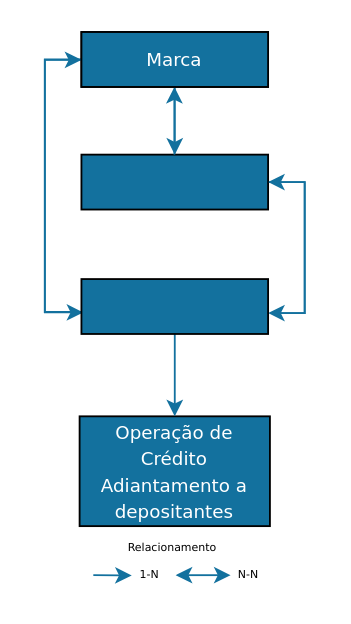
This 351x624 diagram has some shape labels left out. The shapes that lost their labels are listed below. From the top down, each one's centre as x and y in pixels, then its label:
At (174,181): "Instituição".
At (174,305): "Cliente PN e PJ".
